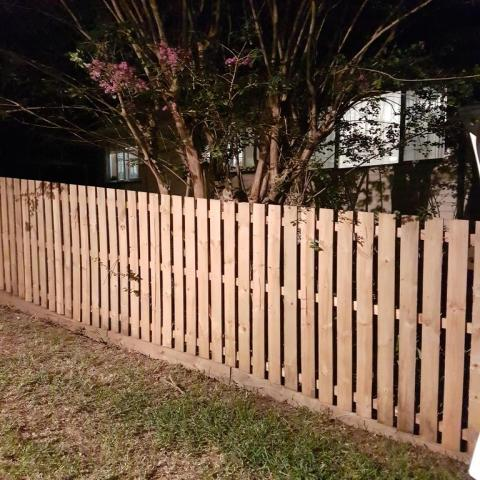small_animal: (221, 184, 254, 208)
